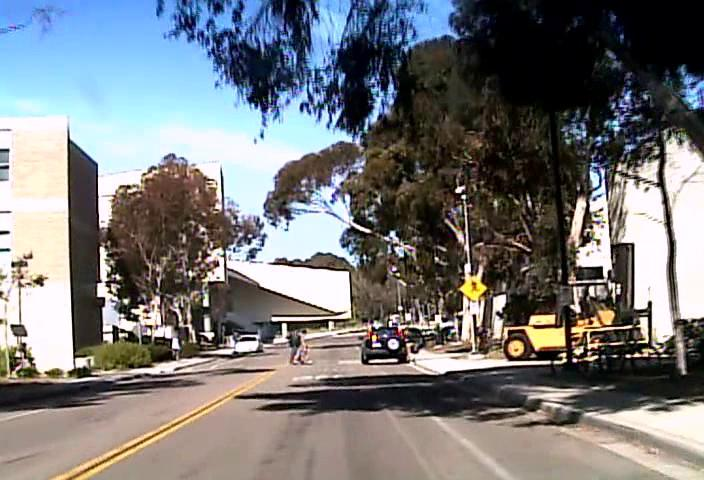pedestrianCrossing: (459, 275, 487, 302)
